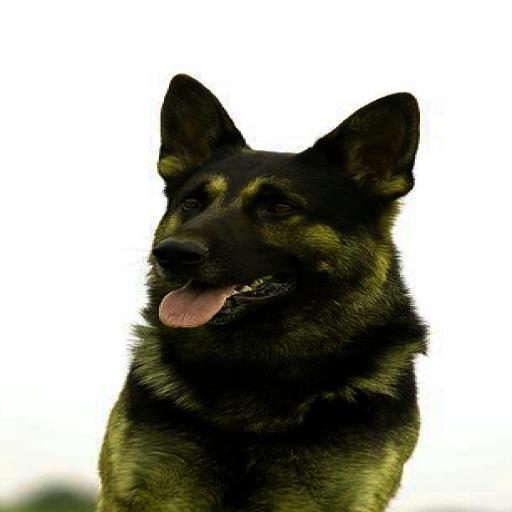dog_face: (153, 77, 436, 326)
